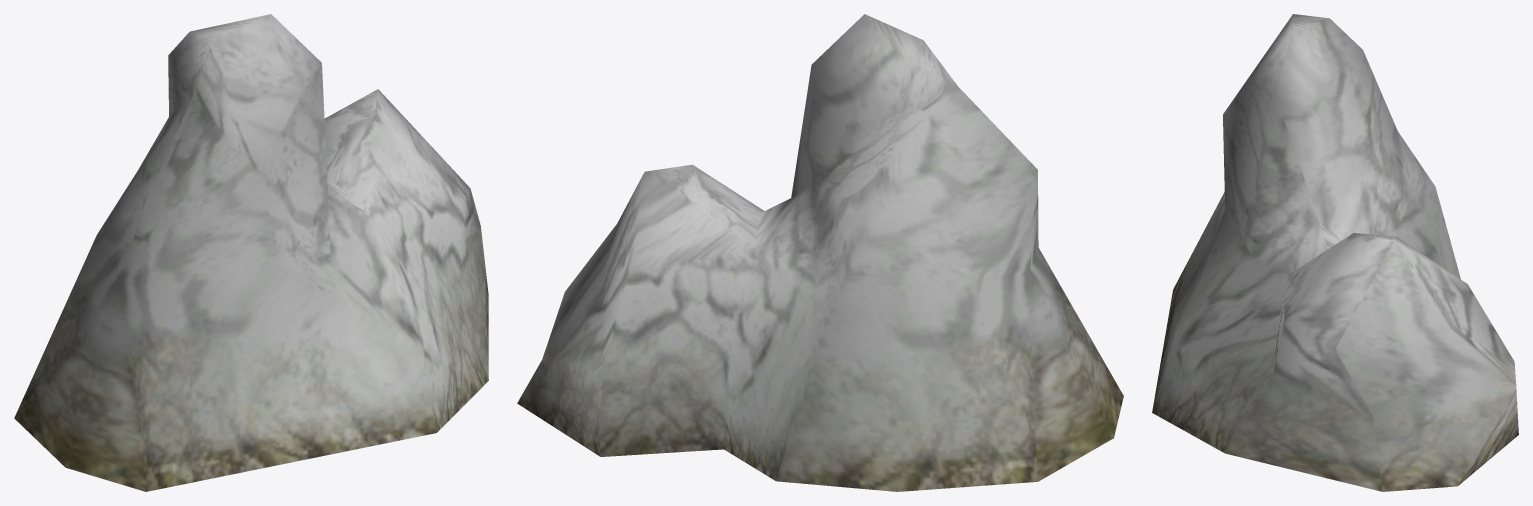
The model's file is general_obj_bigstone08_lod_01.fbx.
3 renders of one model, left to right at view 1: azimuth 30°, elevation 25°; view 2: azimuth 150°, elevation 25°; view 3: azimuth 270°, elevation 25°, orthographic. The views are drawn at different scales.
Visible parts, largest first — view 1: Sphere01; view 2: Sphere01; view 3: Sphere01.
Part boxes in pixels (bbox=[...]): Sphere01: bbox=[14, 14, 488, 491]; Sphere01: bbox=[517, 14, 1123, 491]; Sphere01: bbox=[1152, 14, 1518, 491].
Size of the model in its own units: 23.18 by 17.16 by 16.53.
